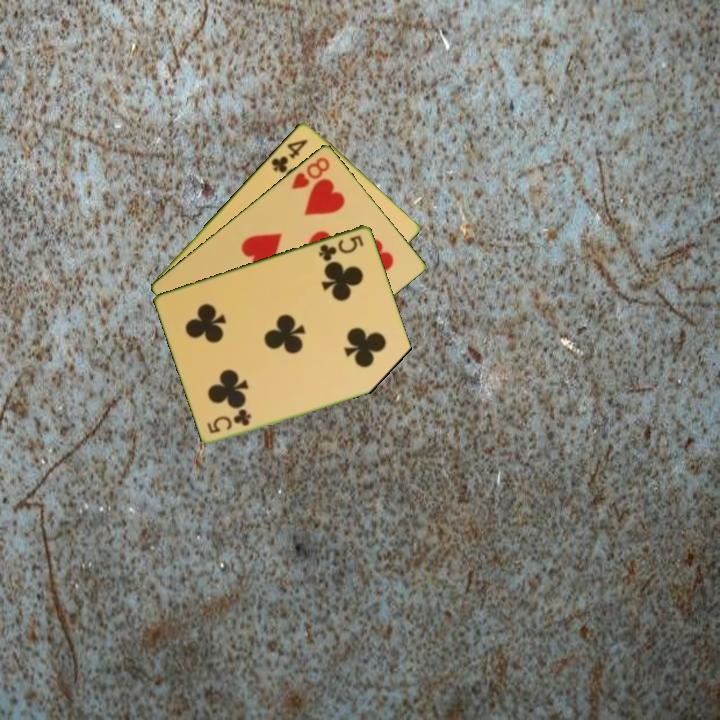4c: (268, 135, 311, 175)
5c: (315, 231, 367, 264), (204, 407, 254, 436)
8h: (288, 153, 333, 192)
